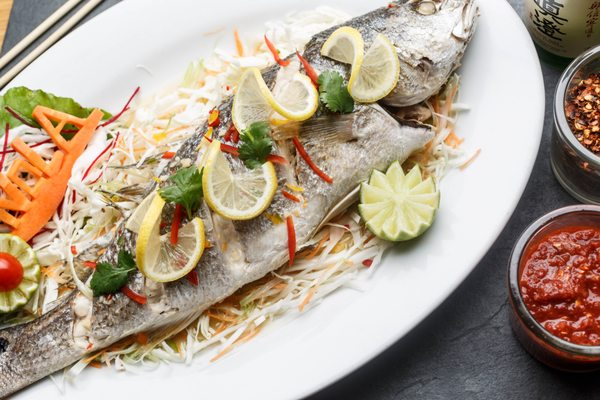curry: (317, 66, 355, 114)
sushi: (506, 204, 600, 372), (551, 43, 600, 201)
